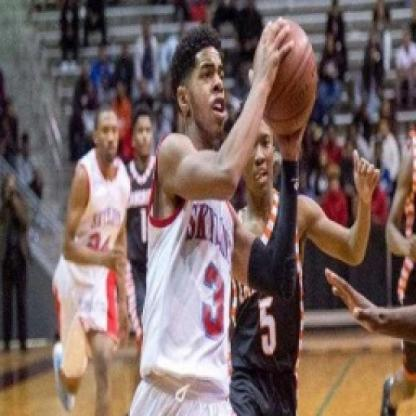basketball: (253, 9, 325, 146)
